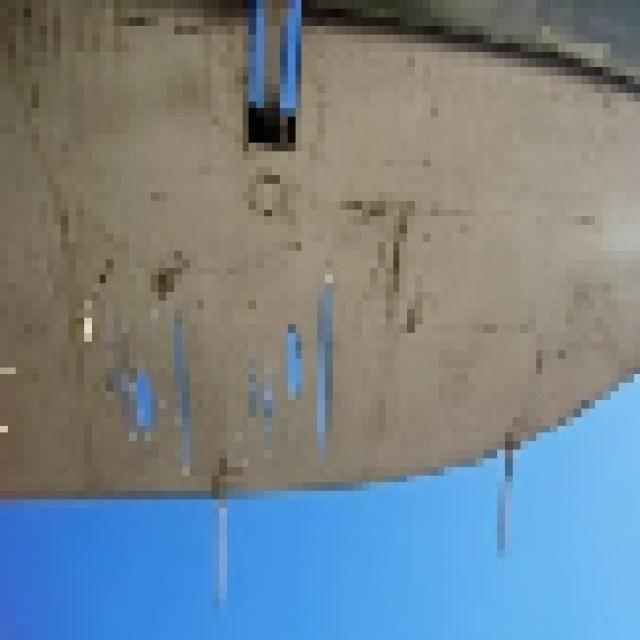crack: (96, 260, 335, 483)
